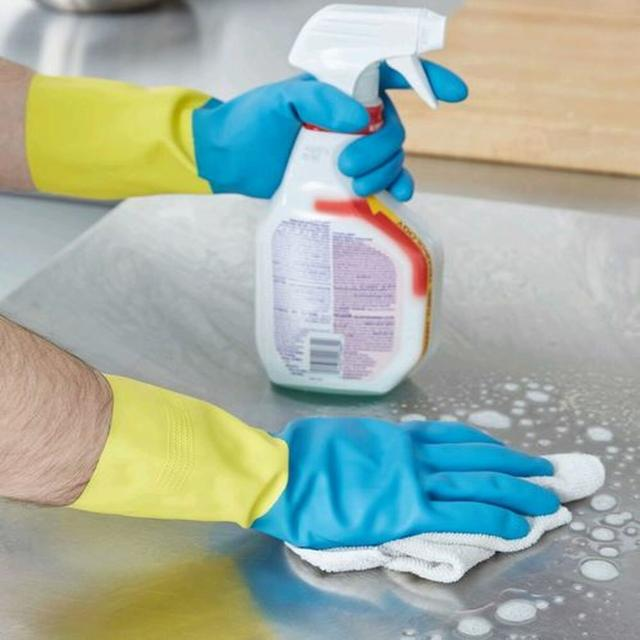gloves: (51, 366, 562, 556), (21, 54, 468, 206)
